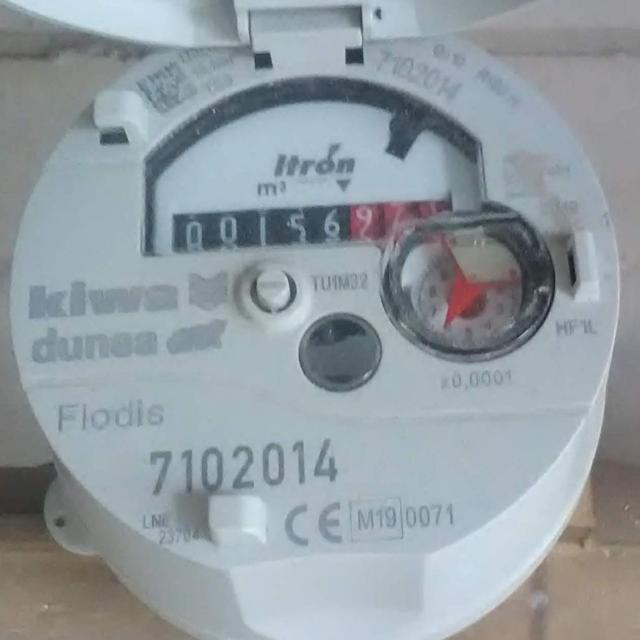gaz_meter: (13, 20, 623, 569)
indication: (170, 196, 449, 253)
